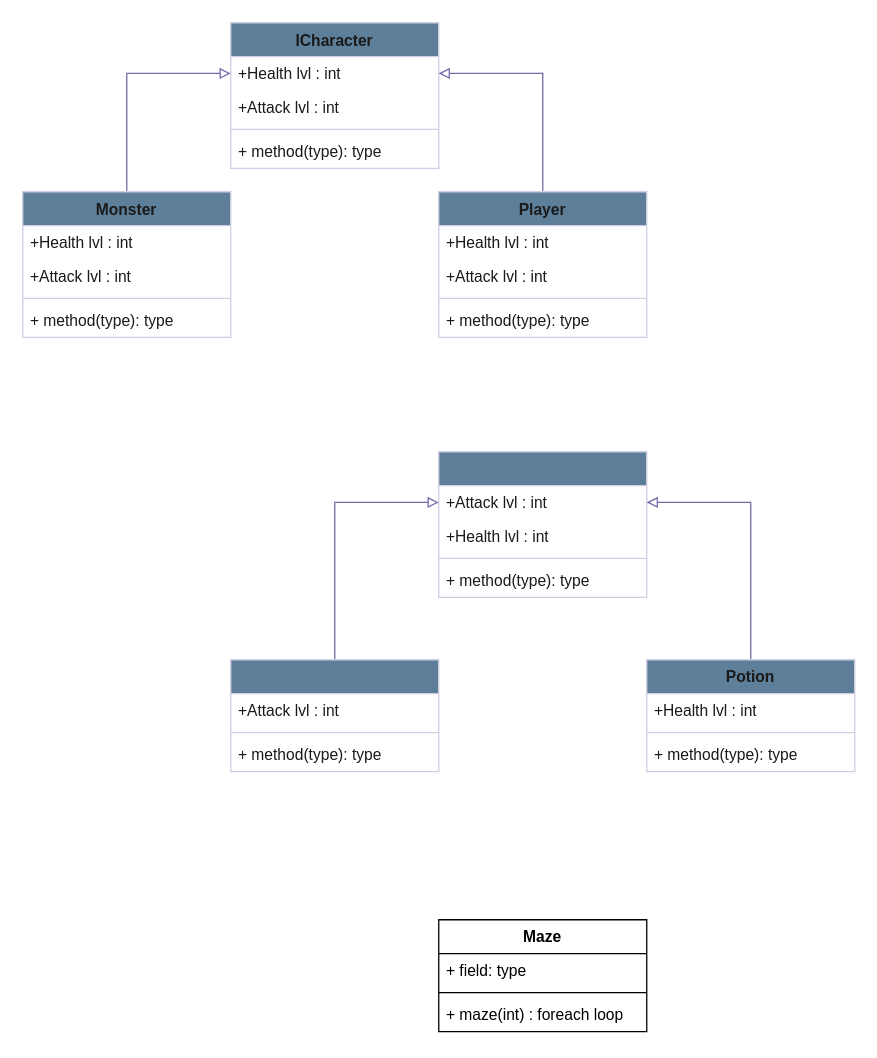
Some shapes in this 877 by 1058 pixel diagram are drawn without their labels. The box of each missing label's shape, as (x1, y1, x2, y2) in pixels:
IItem: (437, 450, 647, 597)
Weapon: (229, 658, 439, 772)
